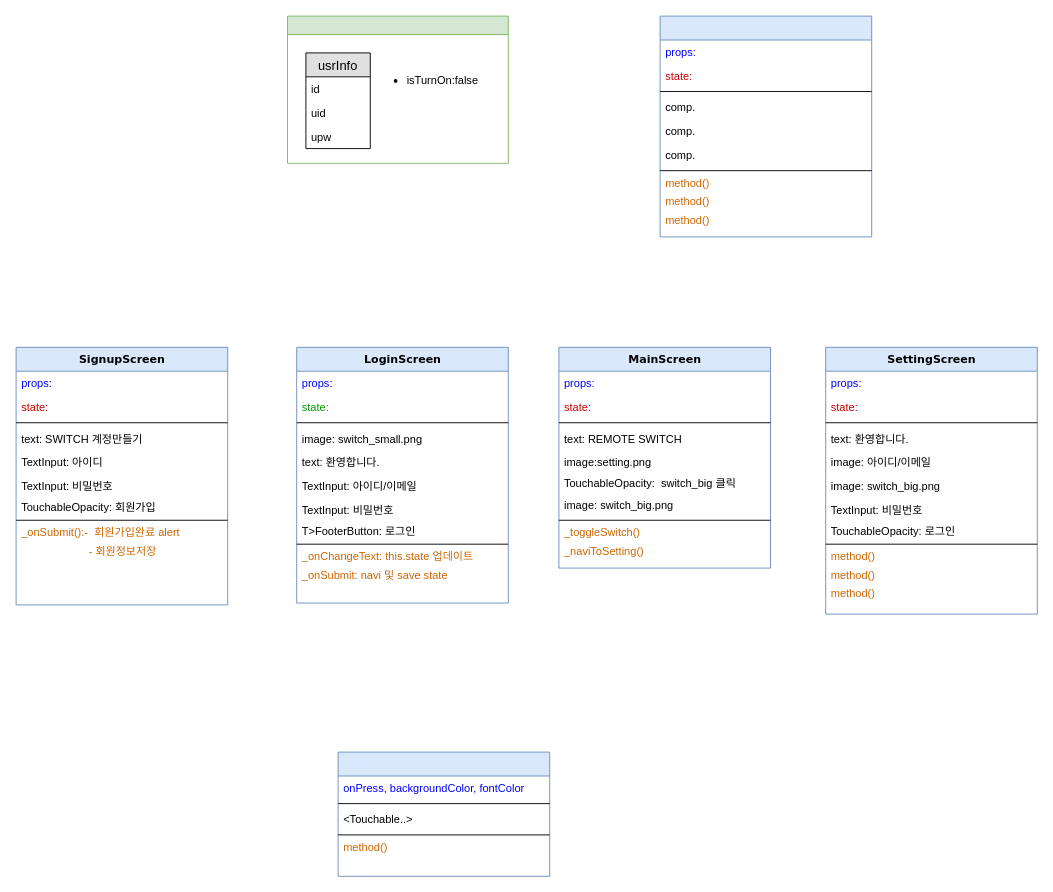
This 1053x892 diagram has some shape labels left out. The shapes that lost their labels are listed below. From the top down, each one's box as (x1, y1, x2, y2) in pixels, then its label:
(287, 15, 508, 163): state
(659, 15, 872, 237): App
(337, 751, 550, 876): FooterButton
